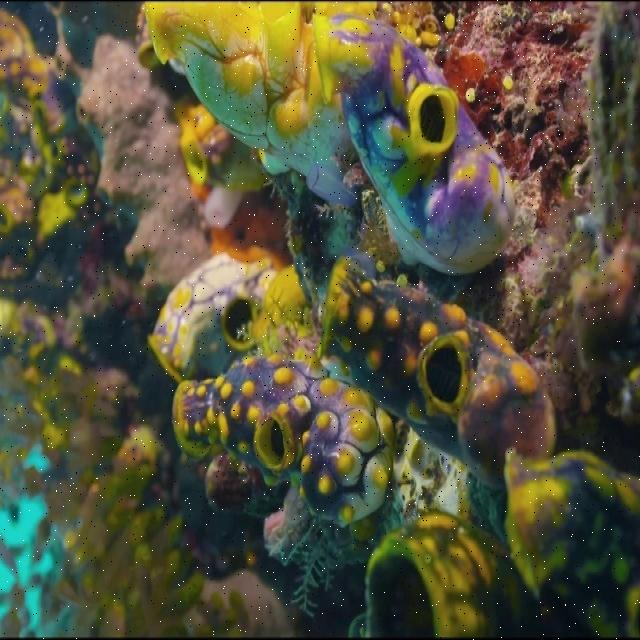reefs: (307, 10, 512, 293), (317, 252, 554, 488), (137, 1, 378, 202), (170, 354, 401, 528), (501, 447, 639, 639), (349, 511, 532, 639), (145, 253, 307, 384)
